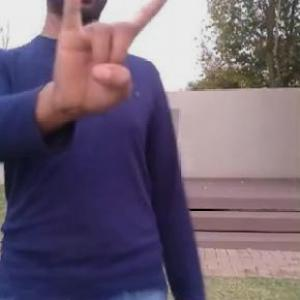takeoff-hand: (50, 0, 182, 116)
